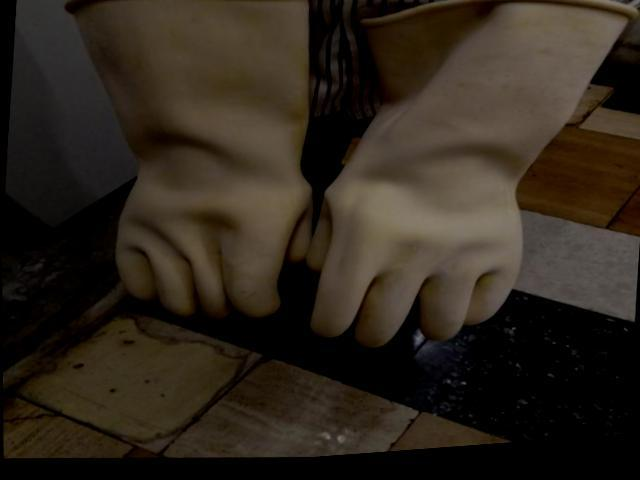Hand-in-Glove: (291, 0, 640, 383), (19, 0, 330, 366)
